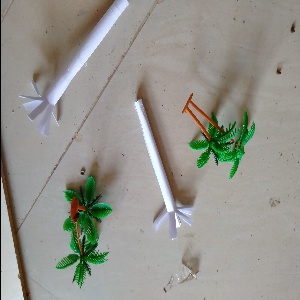plant: (178, 90, 266, 183), (58, 171, 105, 283)
weed: (11, 1, 113, 138), (122, 96, 193, 243)
